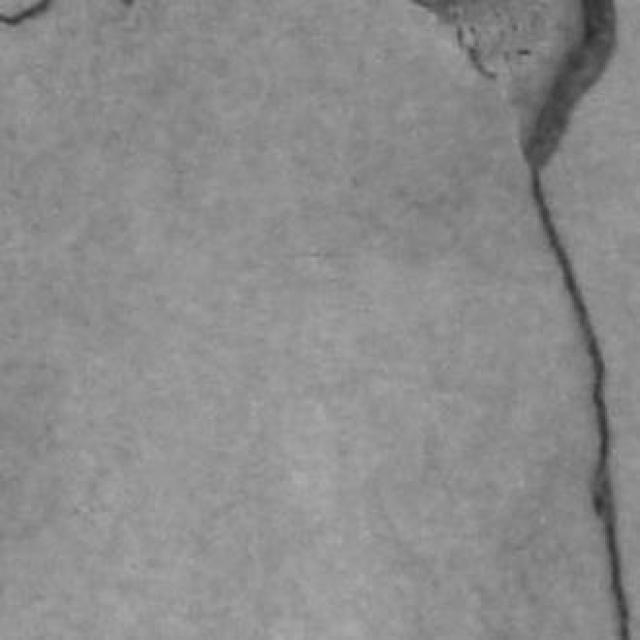crack: (520, 0, 630, 639), (524, 0, 630, 639), (532, 169, 630, 639), (522, 0, 616, 170), (0, 0, 54, 27)
